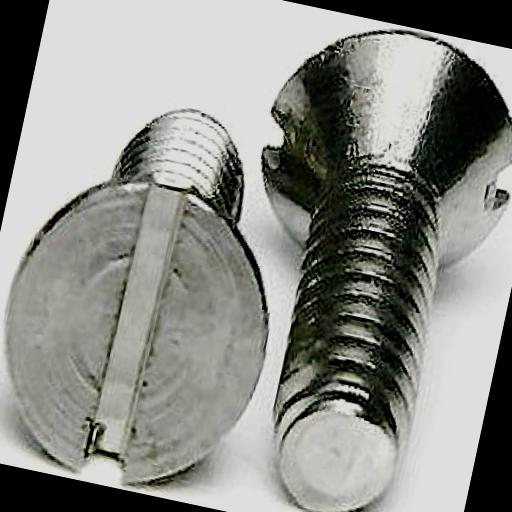Slotted: (0, 154, 294, 505)
